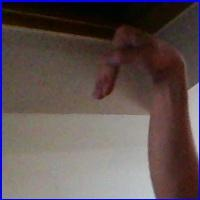A: (91, 20, 180, 106)
